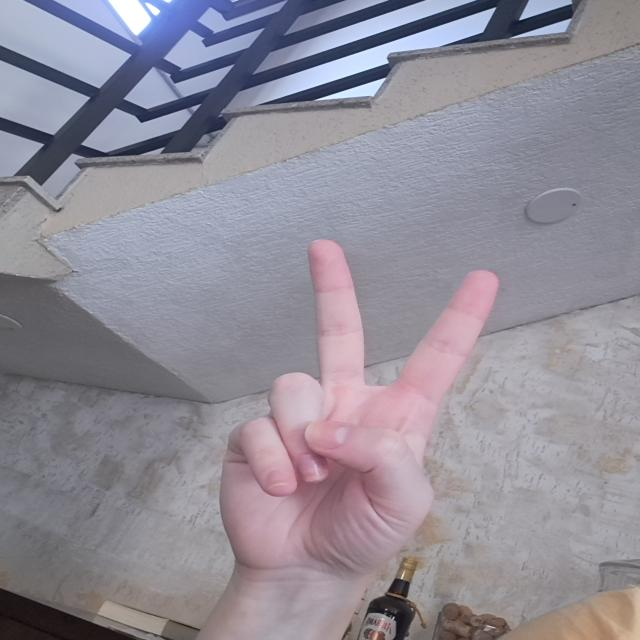V: (204, 233, 512, 602)
